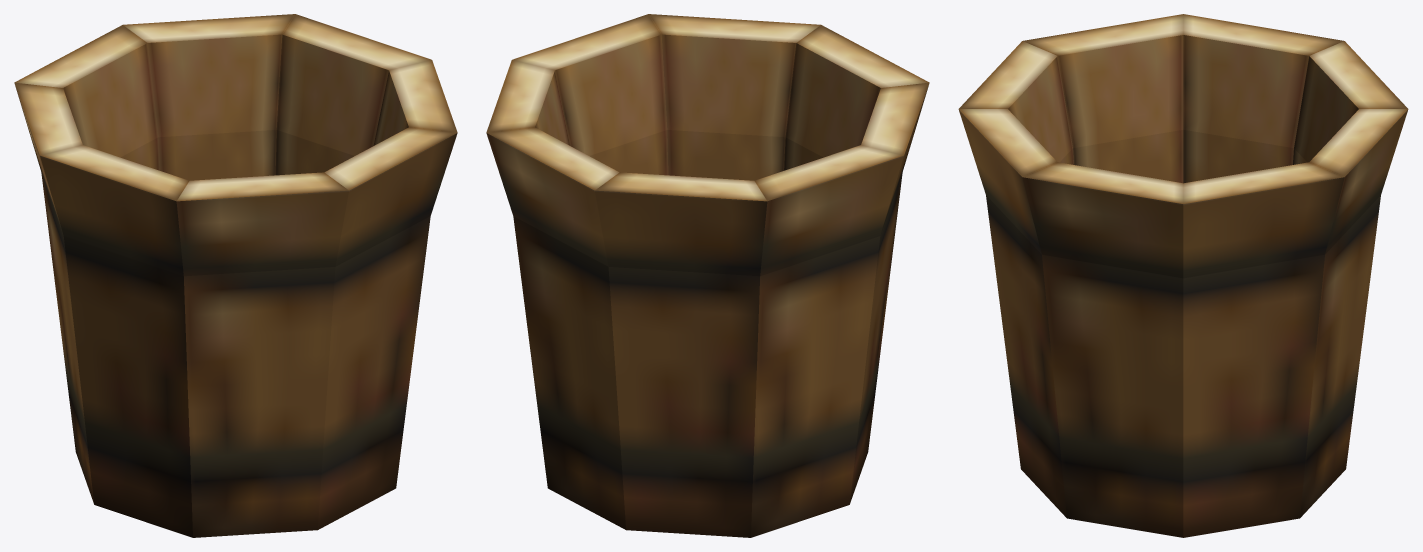
The model's file is Poly_Bucket_01.obj.
3 views of the same model, side by side, from view 1: azimuth 30°, elevation 25°; view 2: azimuth 150°, elevation 25°; view 3: azimuth 270°, elevation 25° (orthographic).
Parts seen in each view (by area): view 1: Plane; view 2: Plane; view 3: Plane.
Part boxes in pixels (box(x1,y1,x2,y2)): Plane: box(14, 14, 457, 537); Plane: box(486, 14, 929, 537); Plane: box(958, 14, 1408, 537).
Bounding box in the file's own units: 0.5655 × 0.4995 × 0.5655.
Materials: 1 (1 with a texture image).
